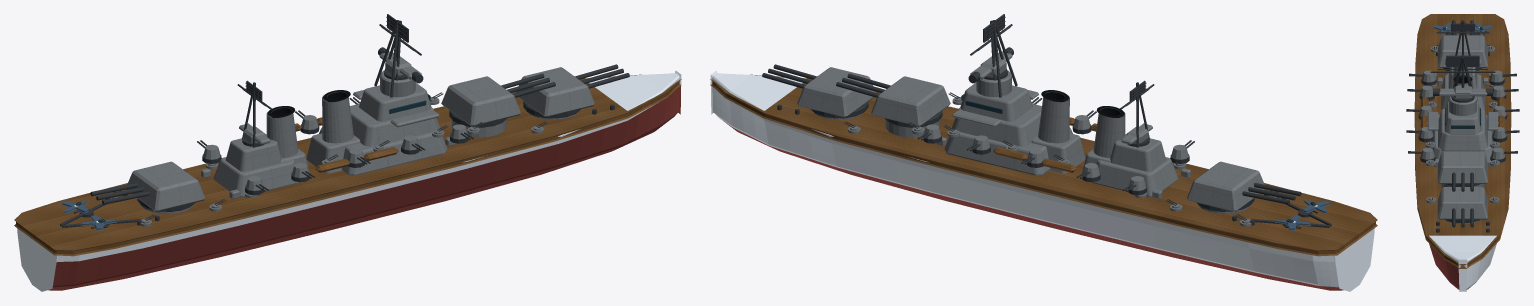
Rendered from battleship-classic.glb.
3 renders of one model, left to right at view 1: azimuth 30°, elevation 25°; view 2: azimuth 150°, elevation 25°; view 3: azimuth 270°, elevation 25°, orthographic. The views are drawn at different scales.
Parts seen in each view (by area): view 1: Iowa_V5_Hull, Iowa_V3_Main_Deck, Turret_Main_2_Housing, Turret_Main_3_Housing, Turret_Main_1_Housing, Iowa_V6_Forward_Tower_2, Iowa_V6_Forward_Tower_1, Iowa_V6_Aft_Tower_1, Iowa_V6_Forward_Tower_3, Iowa_V6_Aft_Tower_2, Iowa_V6_Funnel_1_Shell, Iowa_V6_Funnel_2_Shell (+3 smaller); view 2: Iowa_V5_Hull, Iowa_V3_Main_Deck, Turret_Main_2_Housing, Turret_Main_3_Housing, Turret_Main_1_Housing, Iowa_V6_Forward_Tower_2, Iowa_V6_Forward_Tower_1, Iowa_V6_Aft_Tower_1, Iowa_V6_Forward_Tower_3, Iowa_V6_Aft_Tower_2, Iowa_V6_Funnel_1_Shell, Iowa_V6_Funnel_2_Shell (+3 smaller); view 3: Iowa_V3_Main_Deck, Iowa_V5_Hull, Turret_Main_2_Housing, Turret_Main_1_Housing, Iowa_V6_Forward_Tower_2, Turret_Main_3_Housing, Iowa_V6_Forward_Tower_3, Iowa_V6_Conning_Tower, Iowa_V6_Forward_Tower_1, Iowa_V6_Aft_Tower_1, Iowa_V6_Fore_Radar_Backing, Iowa_V3_Main_Rangefinder (+25 smaller).
Part boxes in pixels (x1,y1,x2,y2): Iowa_V5_Hull: [17, 70, 681, 291]; Iowa_V3_Main_Deck: [14, 74, 681, 256]; Turret_Main_2_Housing: [441, 76, 520, 126]; Turret_Main_3_Housing: [126, 161, 204, 211]; Turret_Main_1_Housing: [516, 67, 594, 117]; Iowa_V6_Forward_Tower_2: [350, 104, 439, 146]; Iowa_V6_Forward_Tower_1: [319, 127, 447, 175]; Iowa_V6_Aft_Tower_1: [213, 157, 299, 196]; Iowa_V6_Forward_Tower_3: [359, 83, 431, 121]; Iowa_V6_Aft_Tower_2: [225, 134, 281, 171]; Iowa_V6_Funnel_1_Shell: [322, 91, 353, 143]; Iowa_V6_Funnel_2_Shell: [266, 107, 298, 157]; Iowa_V5_Hull: [710, 70, 1374, 291]; Iowa_V3_Main_Deck: [710, 74, 1377, 256]; Turret_Main_2_Housing: [871, 76, 950, 126]; Turret_Main_3_Housing: [1187, 161, 1265, 211]; Turret_Main_1_Housing: [797, 67, 875, 117]; Iowa_V6_Forward_Tower_2: [952, 104, 1041, 146]; Iowa_V6_Forward_Tower_1: [944, 127, 1072, 175]; Iowa_V6_Aft_Tower_1: [1092, 157, 1178, 196]; Iowa_V6_Forward_Tower_3: [960, 83, 1032, 121]; Iowa_V6_Aft_Tower_2: [1110, 134, 1166, 171]; Iowa_V6_Funnel_1_Shell: [1038, 91, 1069, 143]; Iowa_V6_Funnel_2_Shell: [1093, 107, 1125, 157]; Iowa_V3_Main_Deck: [1414, 14, 1511, 268]; Iowa_V5_Hull: [1429, 235, 1496, 291]; Turret_Main_2_Housing: [1438, 151, 1487, 183]; Turret_Main_1_Housing: [1438, 187, 1487, 219]; Iowa_V6_Forward_Tower_2: [1438, 108, 1487, 151]; Turret_Main_3_Housing: [1438, 35, 1487, 67]; Iowa_V6_Forward_Tower_3: [1444, 101, 1481, 134]; Iowa_V6_Conning_Tower: [1449, 96, 1476, 115]; Iowa_V6_Forward_Tower_1: [1431, 115, 1494, 167]; Iowa_V6_Aft_Tower_1: [1441, 74, 1484, 109]; Iowa_V6_Fore_Radar_Backing: [1446, 55, 1479, 66]; Iowa_V3_Main_Rangefinder: [1438, 88, 1487, 96].
Size of the model in its own units: 40.14 by 11.1 by 7.66.
Materials: 9 (2 with a texture image).
